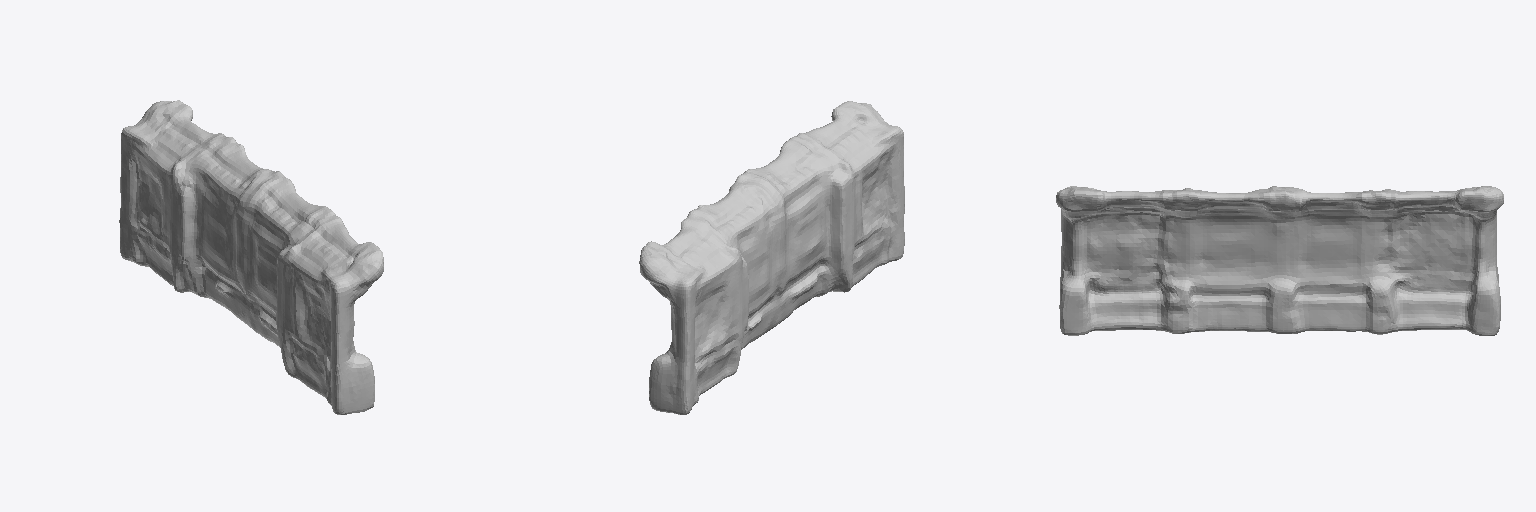
File: c5f4c9a3e478_a_large_sci_fi_wall.obj
3 renders of one model, left to right at view 1: azimuth 30°, elevation 25°; view 2: azimuth 150°, elevation 25°; view 3: azimuth 270°, elevation 25°, orthographic.
Visible parts, largest first — view 1: mesh; view 2: mesh; view 3: mesh.
Boxes of the visible parts, x1,y1,x2,y2 form: mesh: [119, 100, 383, 414]; mesh: [639, 101, 904, 414]; mesh: [1056, 186, 1503, 335].
Bounding box in the file's own units: 0.1487 × 0.3777 × 0.9998.